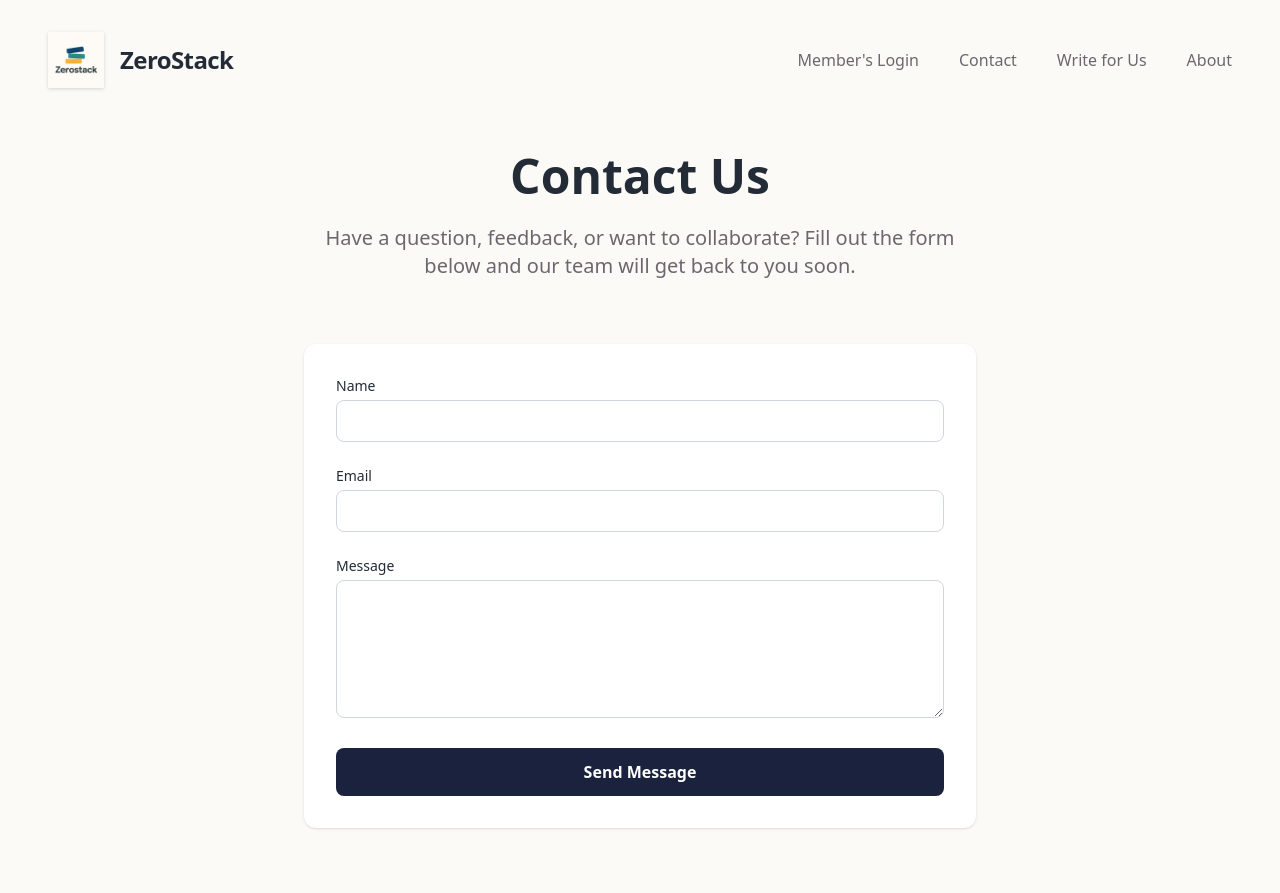
Test case: ContactUs Page › shows loading and success state on submit
The image size is (1280, 893).
In the field labelled "Name": {"x": 640, "y": 421} [336,400,944,442], type "Test User"
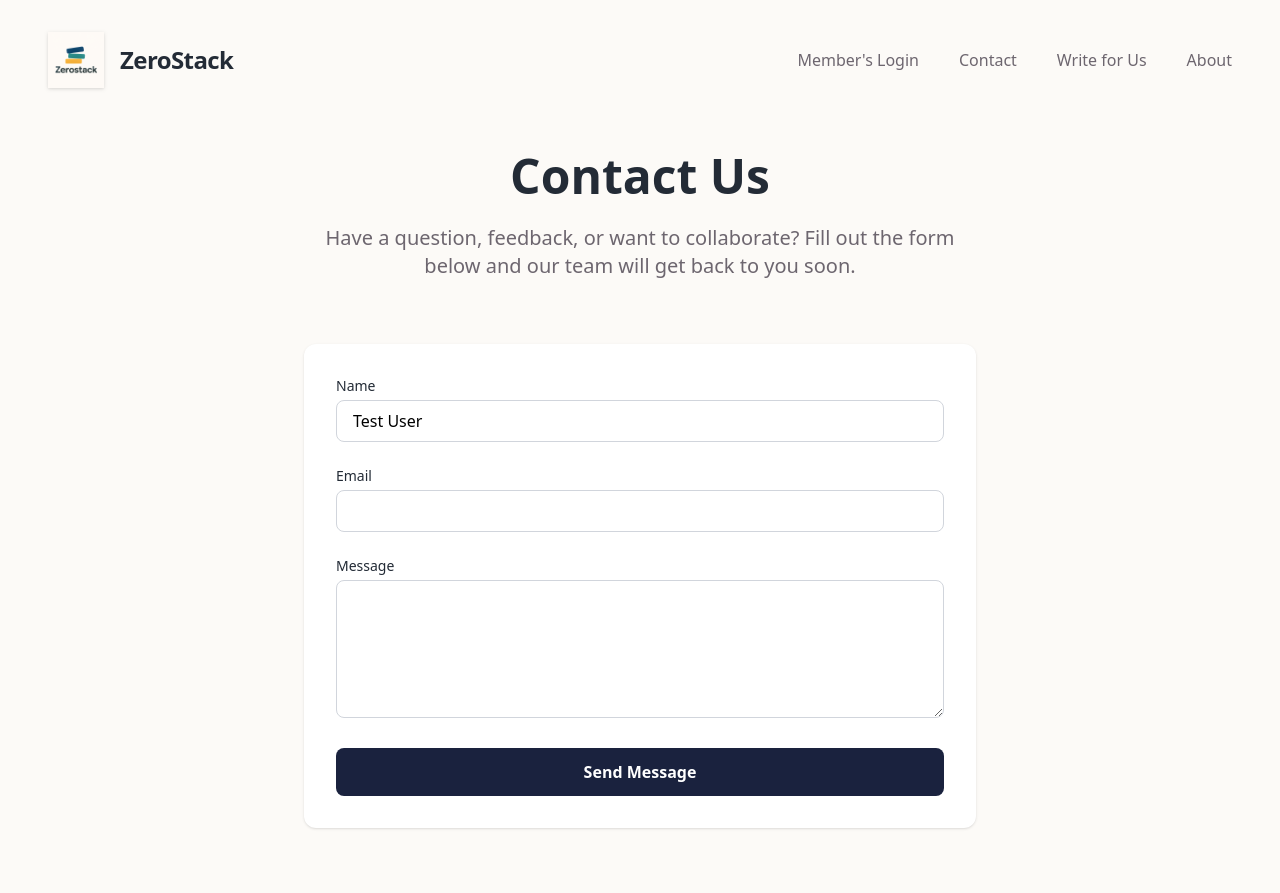
In the field labelled "Email": {"x": 640, "y": 511} [336,490,944,532], type "test@example.com"
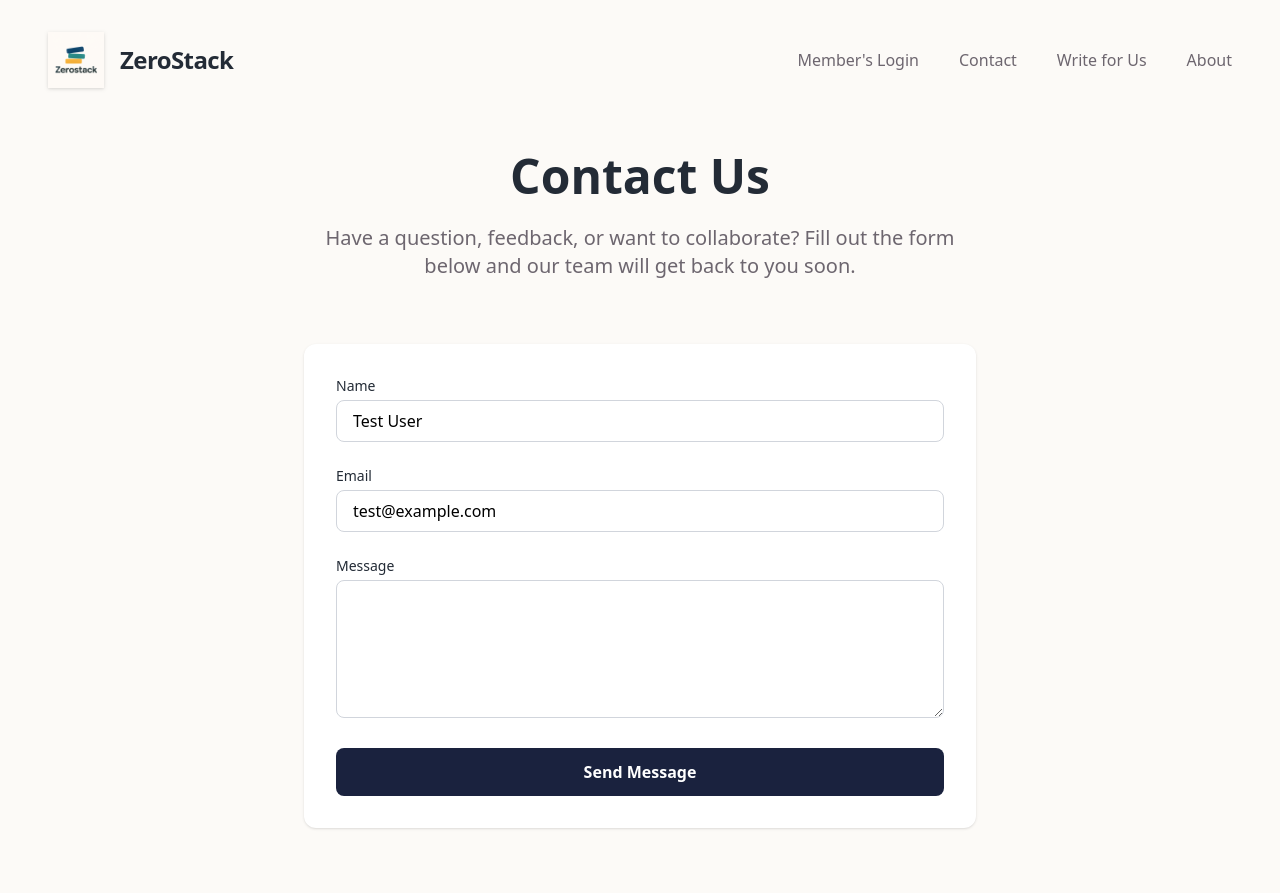
In the text box labelled "Message": {"x": 640, "y": 649} [336,580,944,718], type "Hello there!"
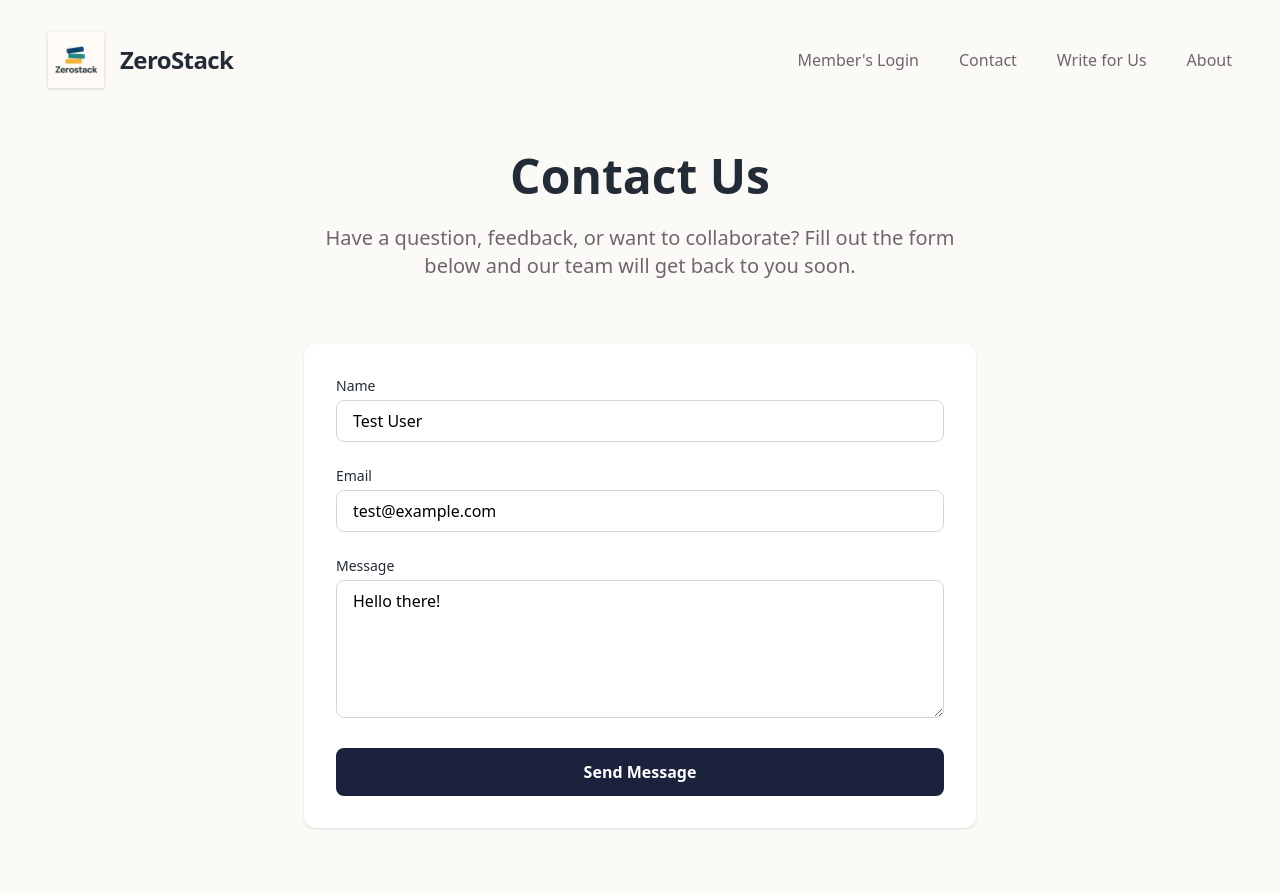
Click the button "Send Message": {"x": 640, "y": 772} [336,748,944,796]
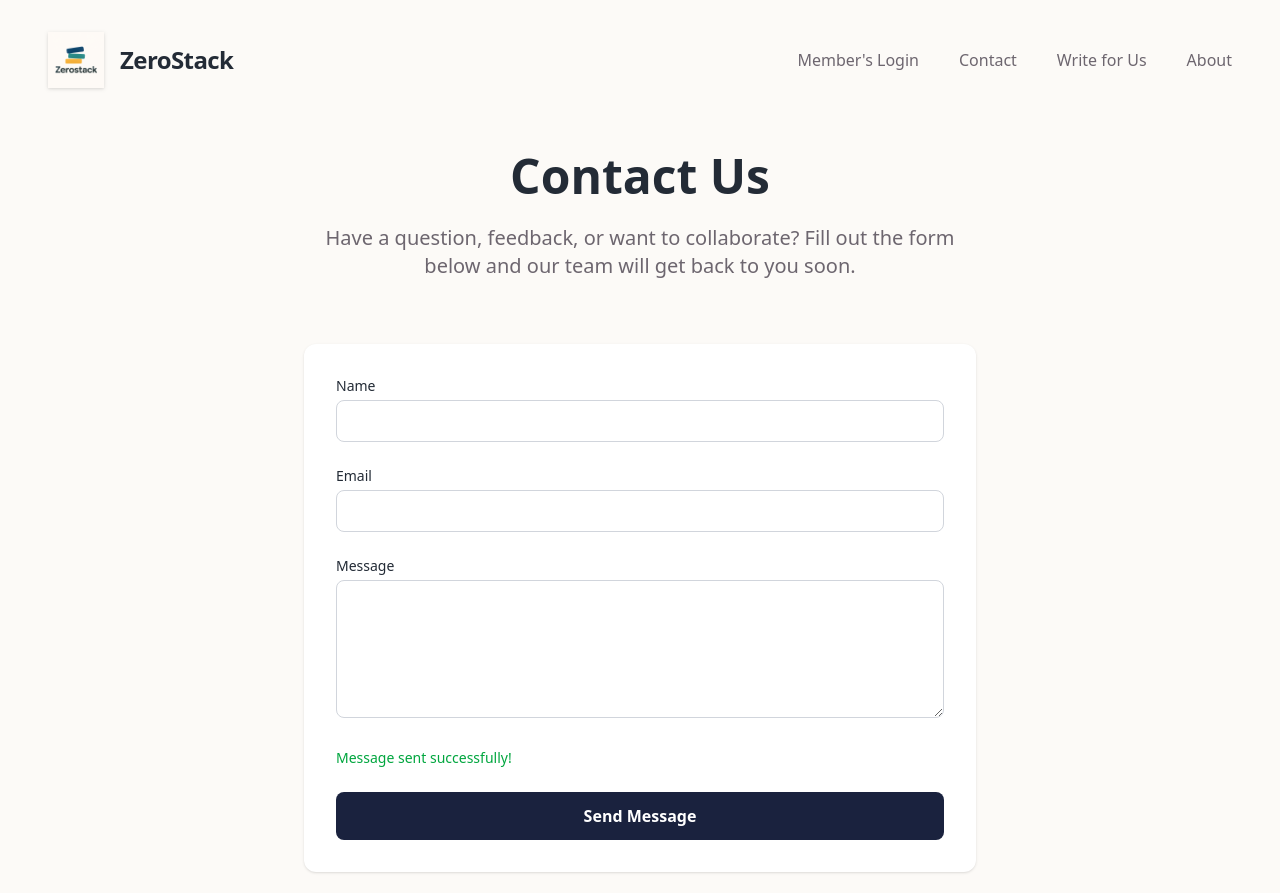
Expected: the button "Sending..." is shown, [336,792,944,840]
Result: the text "Message sent successfully!" is shown at [336,748,512,767]
